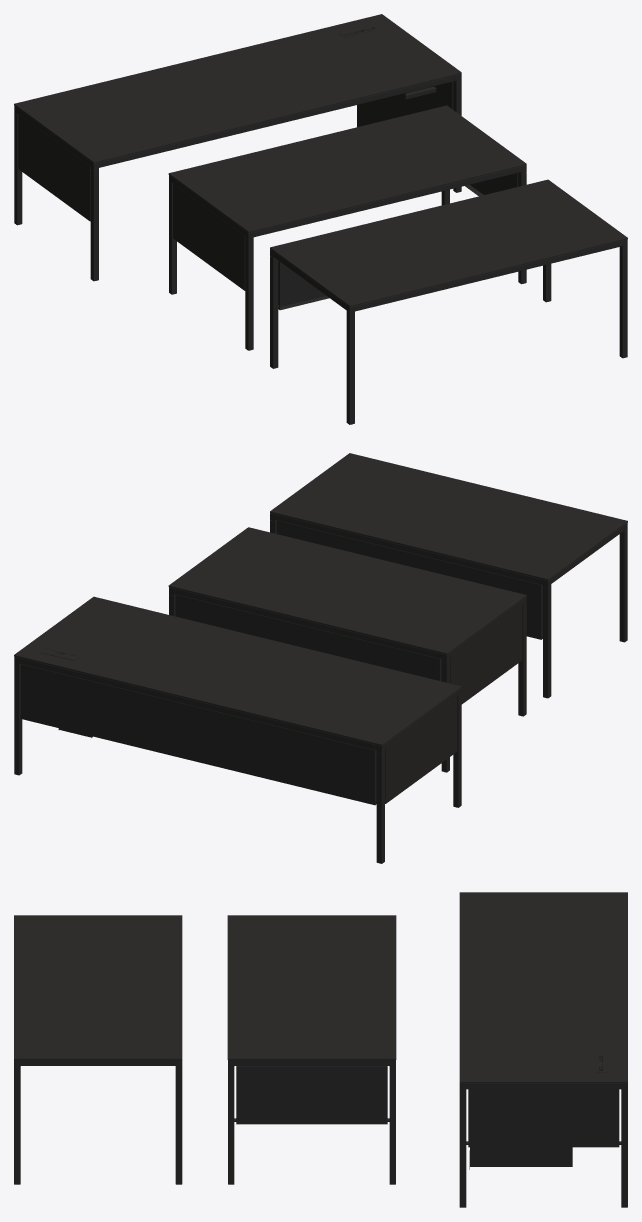
File: helsinki_office_35_desk_system_by_desalto.glb
The picture shows the model from 3 angles, top to bottom: view 1: azimuth 30°, elevation 25°; view 2: azimuth 150°, elevation 25°; view 3: azimuth 270°, elevation 25°; orthographic projection. The views are drawn at different scales.
Visible parts, largest first — view 1: Helsinki_Office_35_Desk_System_240x90_Computer_unit, Helsinki_Office_35_Desk_System_180x90, Helsinki_Office_35_Desk_System_180x90.000; view 2: Helsinki_Office_35_Desk_System_240x90_Computer_unit, Helsinki_Office_35_Desk_System_180x90, Helsinki_Office_35_Desk_System_180x90.000; view 3: Helsinki_Office_35_Desk_System_240x90_Computer_unit, Helsinki_Office_35_Desk_System_180x90, Helsinki_Office_35_Desk_System_180x90.000.
Boxes of the visible parts, <box> form: Helsinki_Office_35_Desk_System_240x90_Computer_unit: <box>14,14,461,281</box>; Helsinki_Office_35_Desk_System_180x90: <box>168,105,526,350</box>; Helsinki_Office_35_Desk_System_180x90.000: <box>270,179,627,424</box>; Helsinki_Office_35_Desk_System_240x90_Computer_unit: <box>14,596,461,863</box>; Helsinki_Office_35_Desk_System_180x90: <box>168,527,526,772</box>; Helsinki_Office_35_Desk_System_180x90.000: <box>270,453,627,698</box>; Helsinki_Office_35_Desk_System_240x90_Computer_unit: <box>459,892,627,1207</box>; Helsinki_Office_35_Desk_System_180x90: <box>227,915,396,1184</box>; Helsinki_Office_35_Desk_System_180x90.000: <box>14,915,182,1184</box>.
Size of the model in its own units: 2.38 by 0.7441 by 3.26.
3 materials, 3 textured.
